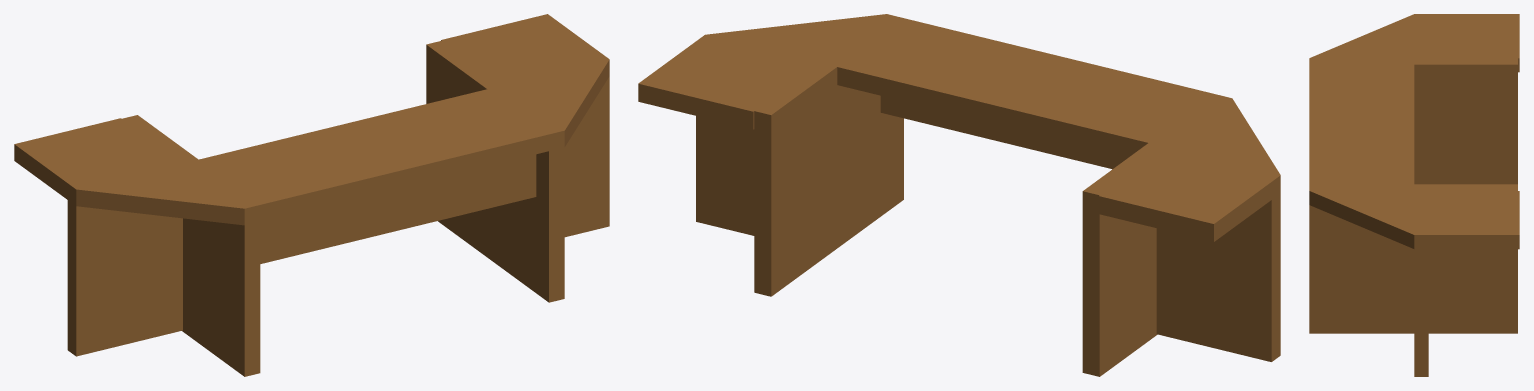
Rendered from table.fbx.
3 views of the same model, side by side, from view 1: azimuth 30°, elevation 25°; view 2: azimuth 150°, elevation 25°; view 3: azimuth 270°, elevation 25° (orthographic). The views are drawn at different scales.
Visible parts, largest first — view 1: Cube; view 2: Cube; view 3: Cube.
Part boxes in pixels (x1,y1,x2,y2): Cube: (14, 14, 609, 376); Cube: (638, 14, 1280, 376); Cube: (1309, 14, 1519, 376).
Bounding box in the file's own units: 997 × 300 × 400.
